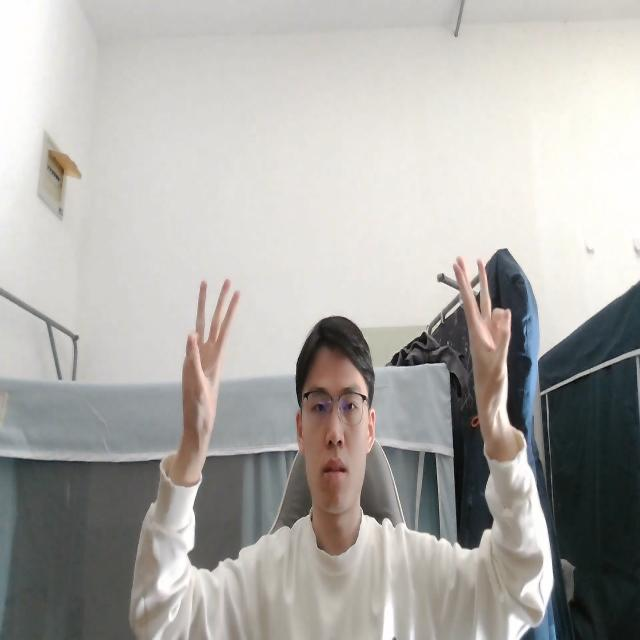three: (174, 271, 239, 467), (451, 247, 513, 445)
